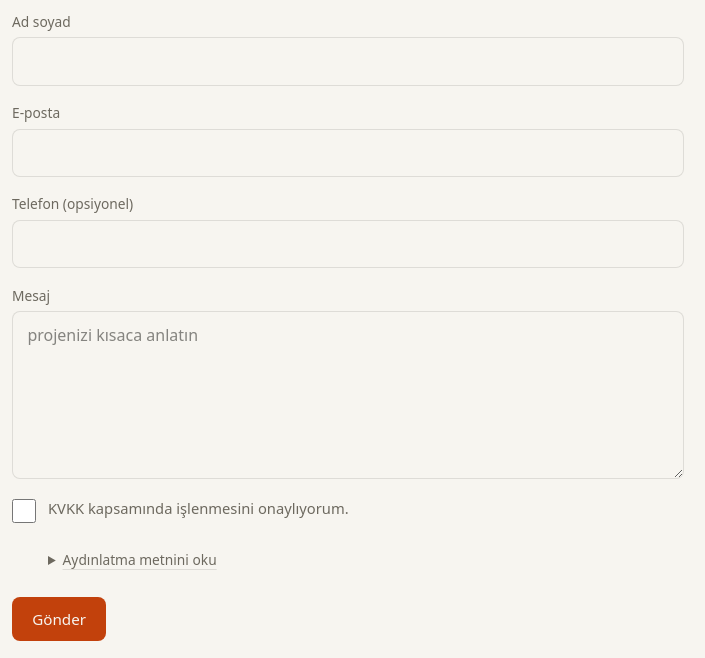
ContactForm › on a non-200 response shows the error text + a prefilled mailto fallback
Type "Ada Lovelace" into the field labelled "Ad soyad".
click(348, 62); type("Ada Lovelace")  # box [12, 37, 684, 86]
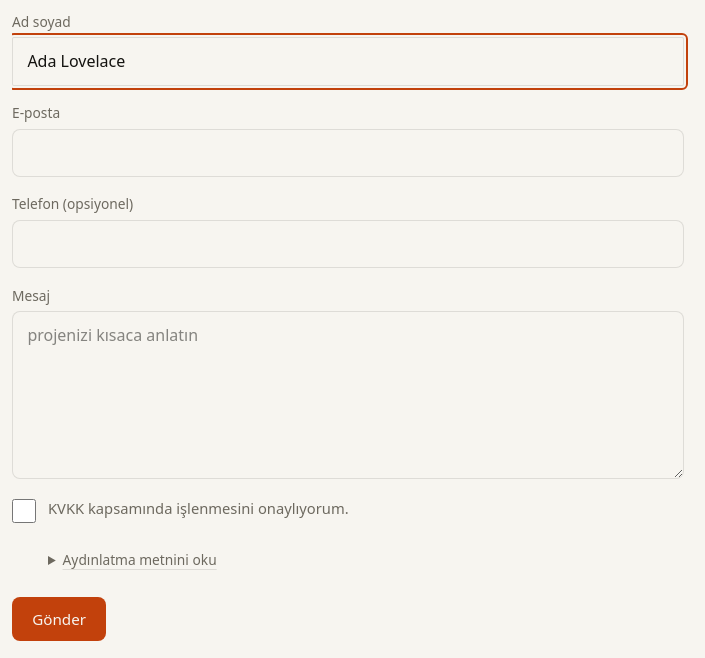
Type "ada@example.com" into the field labelled "E-posta".
click(348, 153); type("ada@example.com")  # box [12, 128, 684, 177]
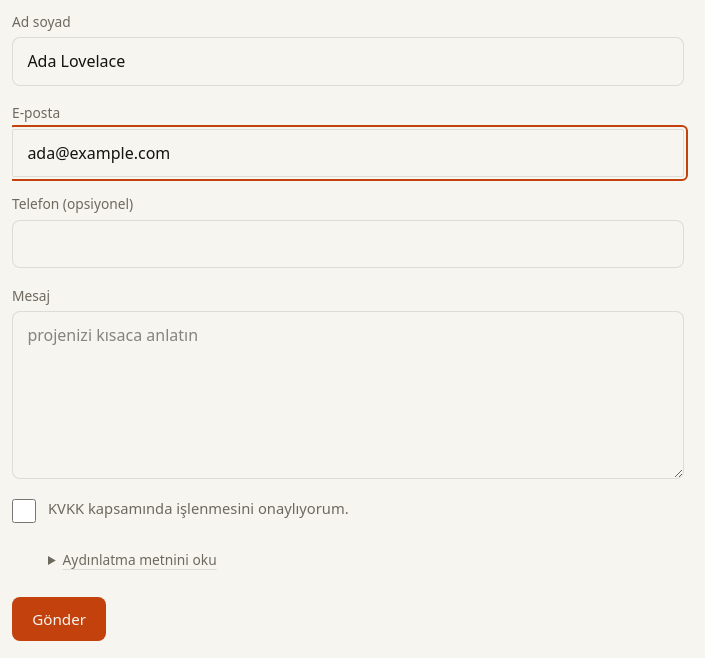
Type "Kurumsal web sitesi projesi." into the text box labelled "Mesaj".
click(348, 395); type("Kurumsal web sitesi projesi.")  # box [12, 311, 684, 479]
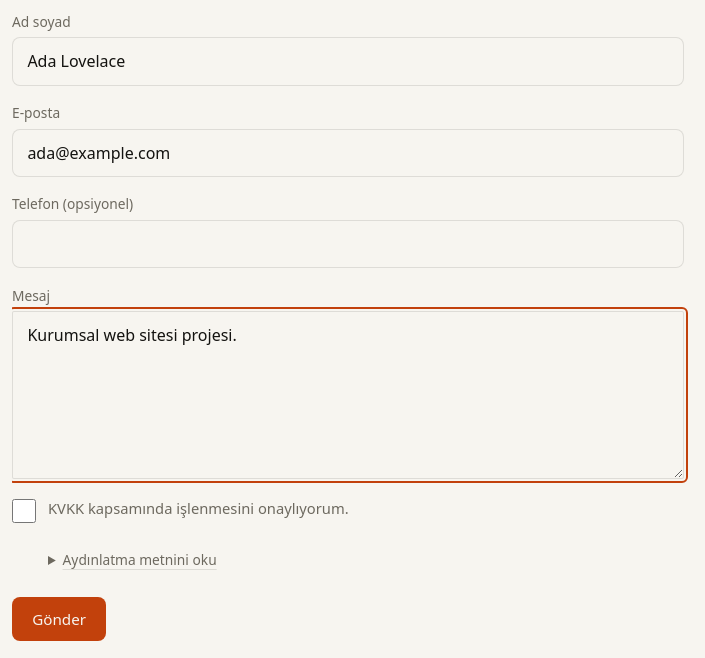
Click the checkbox.
click(24, 511)  # box [12, 499, 36, 523]
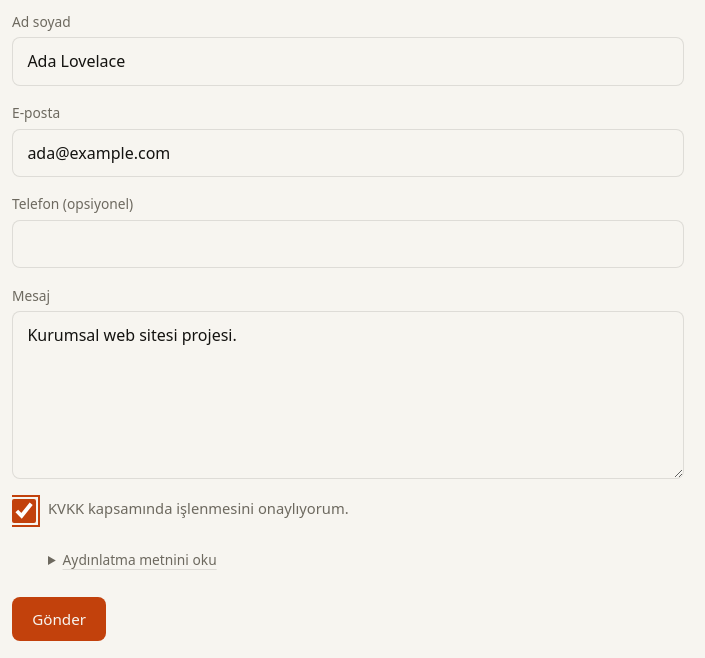
Click the button "Gönder".
click(59, 619)  # box [12, 597, 106, 641]
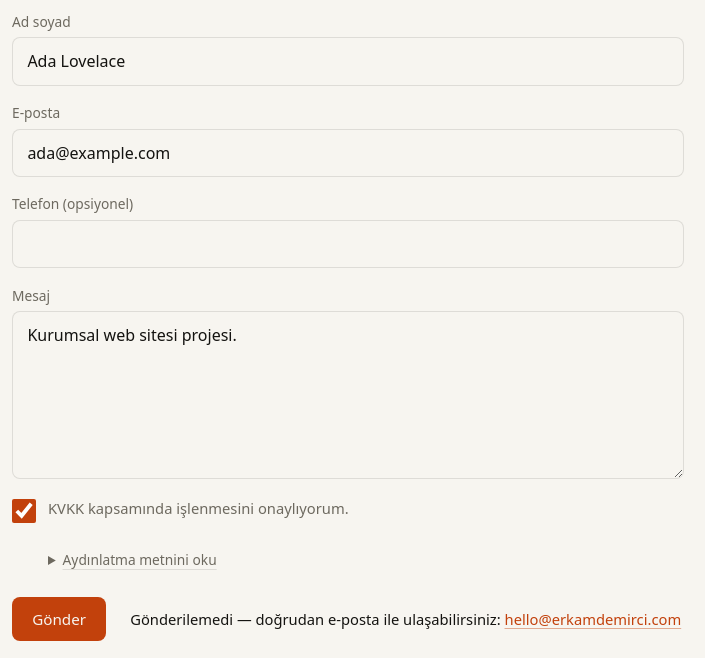
Now the text "Gönderilemedi — doğrudan e-posta ile ulaşabilirsiniz:" is shown, box [130, 609, 501, 629]
